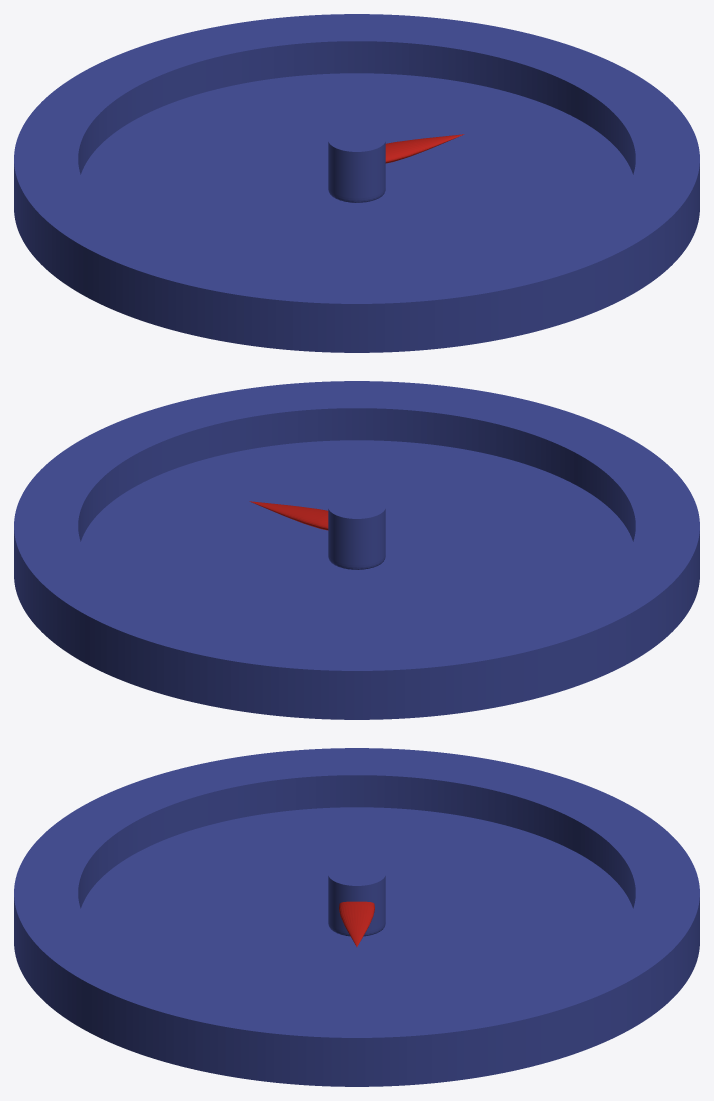
The model's file is Drehrad1.fbx.
The picture shows the model from 3 angles, top to bottom: view 1: azimuth 30°, elevation 25°; view 2: azimuth 150°, elevation 25°; view 3: azimuth 270°, elevation 25°; orthographic projection.
Parts seen in each view (by area): view 1: Drehrad, Zeiger; view 2: Drehrad, Zeiger; view 3: Drehrad, Zeiger.
Part boxes in pixels (x1=…): Drehrad: x1=14, y1=14, x2=699, y2=352; Zeiger: x1=385, y1=134, x2=464, y2=163; Drehrad: x1=14, y1=381, x2=699, y2=719; Zeiger: x1=249, y1=501, x2=328, y2=530; Drehrad: x1=14, y1=748, x2=699, y2=1086; Zeiger: x1=339, y1=901, x2=374, y2=946.
Bounding box in the file's own units: 283 × 31.02 × 283.
